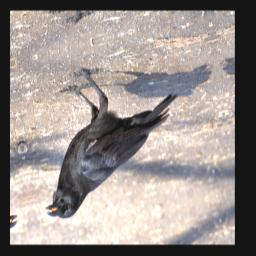Crow: (27, 44, 191, 225)
